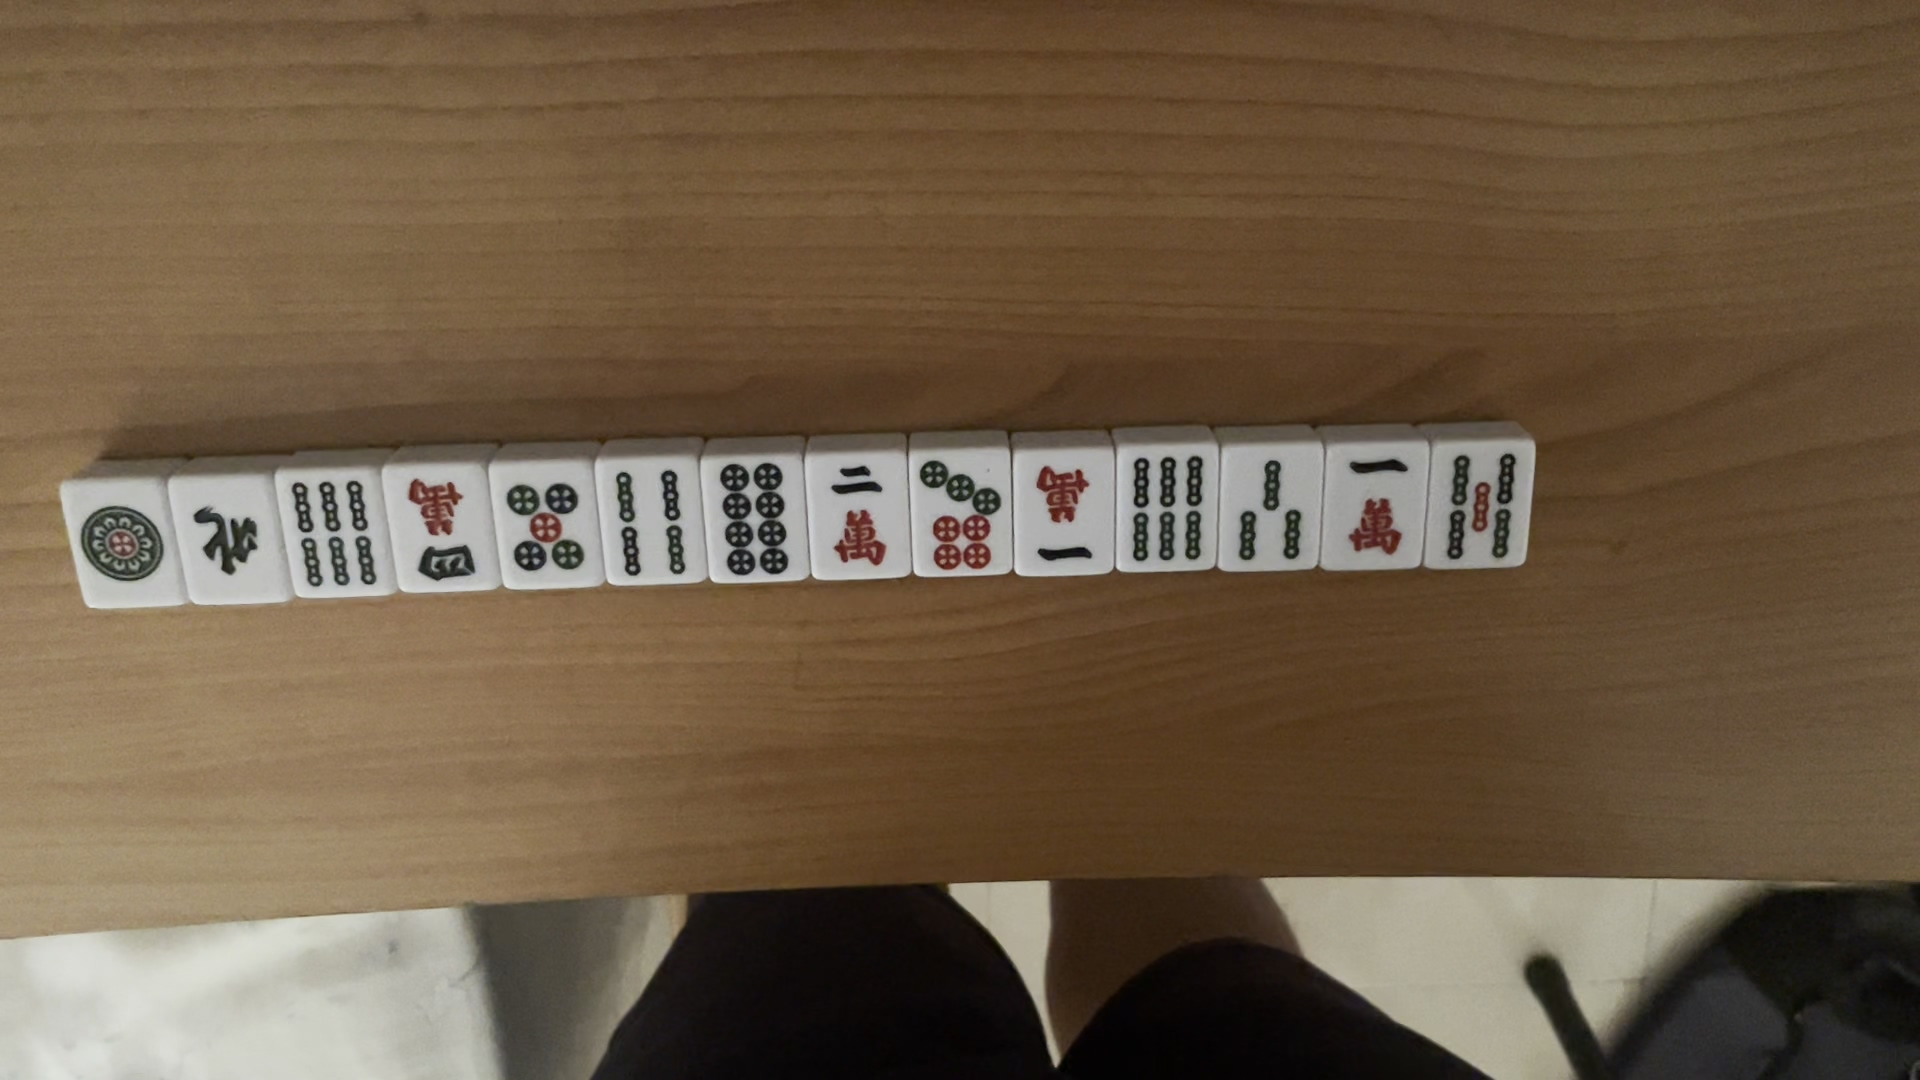b-3: (1232, 454, 1309, 567)
b-4: (612, 467, 696, 580)
b-5: (1444, 451, 1523, 562)
b-6: (1127, 450, 1209, 570), (290, 479, 375, 591)
c-1: (1338, 447, 1412, 564), (1026, 456, 1104, 563)
c-2: (819, 458, 895, 572)
c-4: (404, 477, 480, 585)
d-1: (71, 496, 170, 593)
d-5: (500, 477, 585, 583)
d-7: (918, 458, 1004, 578)
d-8: (719, 460, 790, 576)
honors-north: (193, 496, 266, 582)
